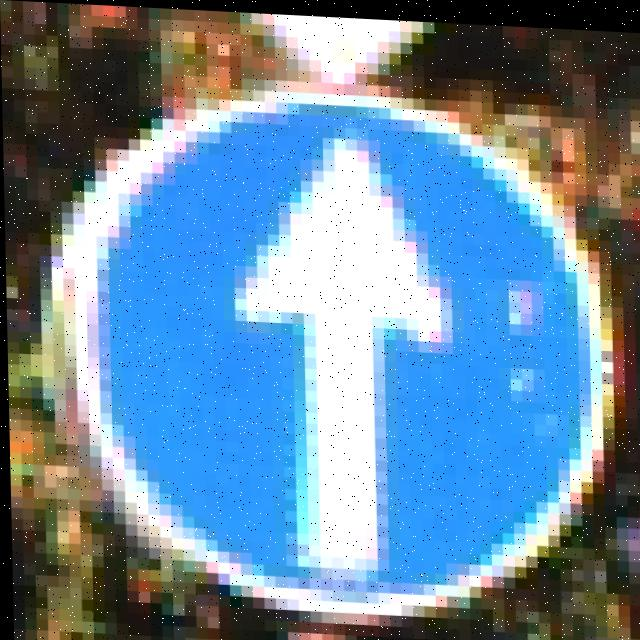compulsory_ahead: (81, 33, 632, 608)
